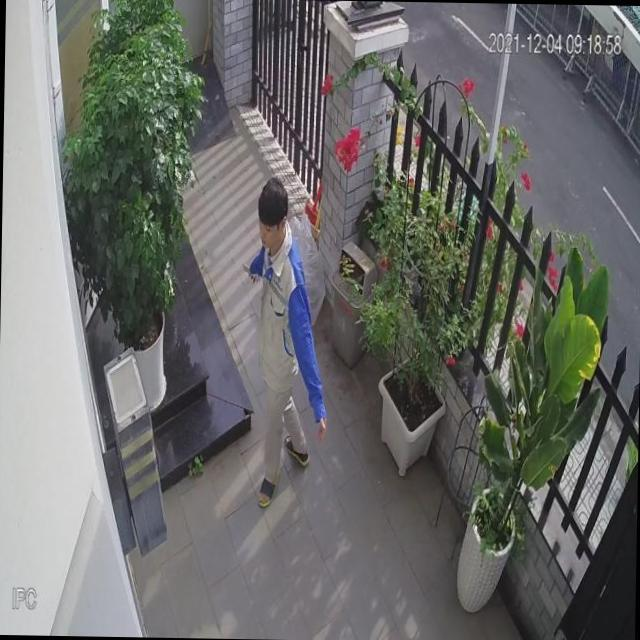person: (240, 177, 332, 502)
